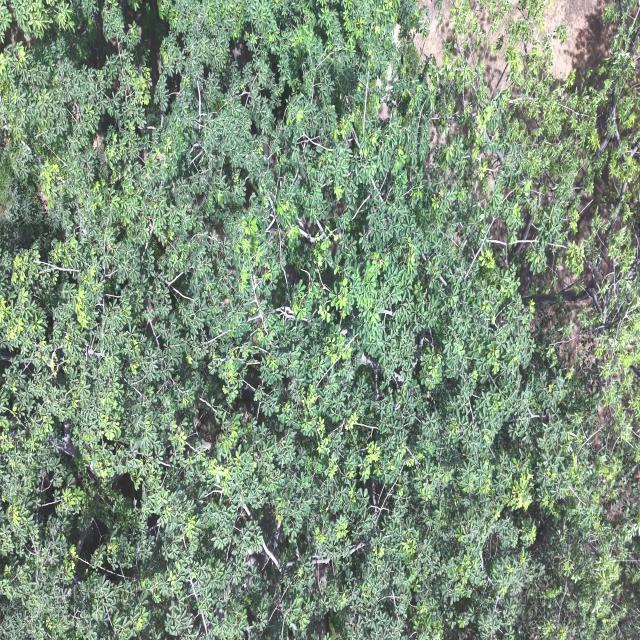DRY_AREA: (542, 0, 613, 80), (543, 0, 610, 79), (414, 0, 448, 65)
VEGETATION_TREE: (0, 0, 639, 639)
